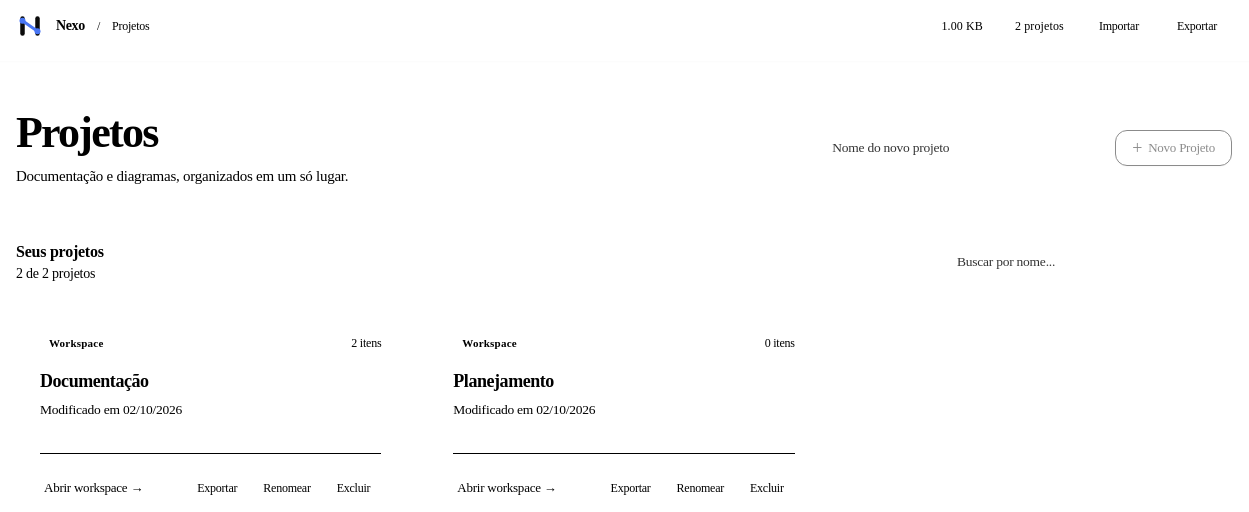
Scenario: fluxo de projetos › filtra por nome e permite limpar uma busca sem resultados
Type "DOCUMENTAÇÃO" into the search field named "Buscar projetos" at (1088, 262), box [944,243,1232,281]
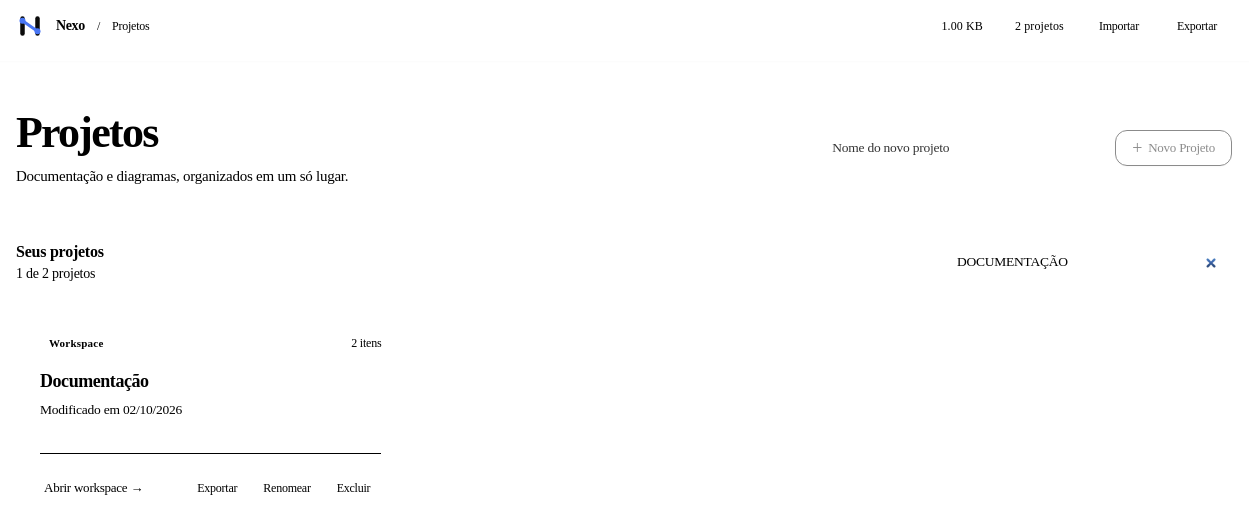
Expected: the heading "Documentação" is shown, [40,370,149,394]
Now the button "Planejamento" is gone
Replace the text in the search field named "Buscar projetos" with "inexistente" at (1088, 262), box [944,243,1232,281]
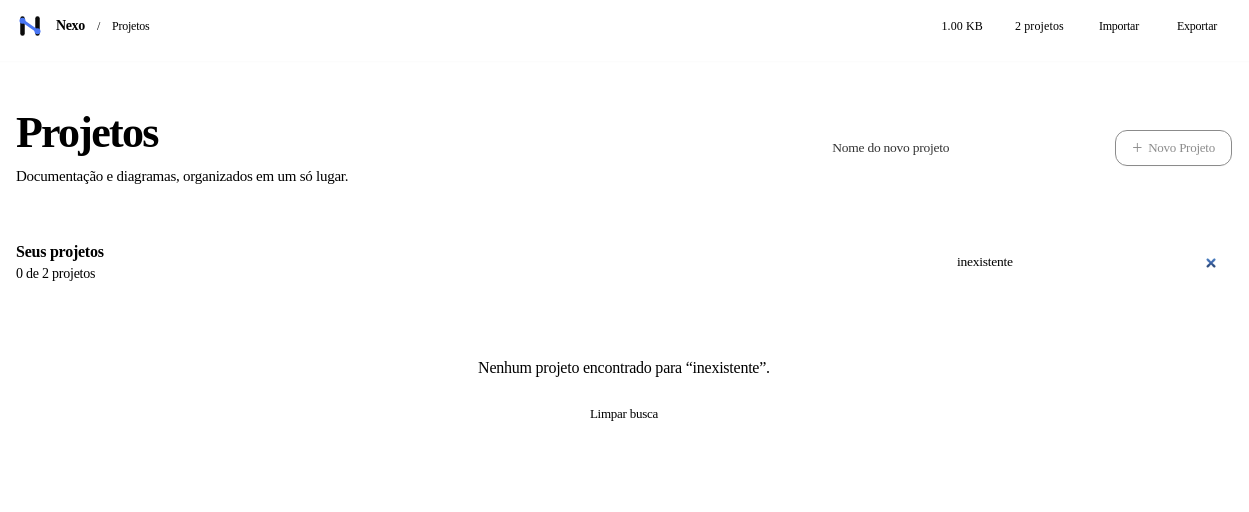
Now the text "Nenhum projeto encontrado para “inexistente”." is shown, box [478,359,770,376]
Click the button "Limpar busca" at (624, 414), box [577,396,671,432]
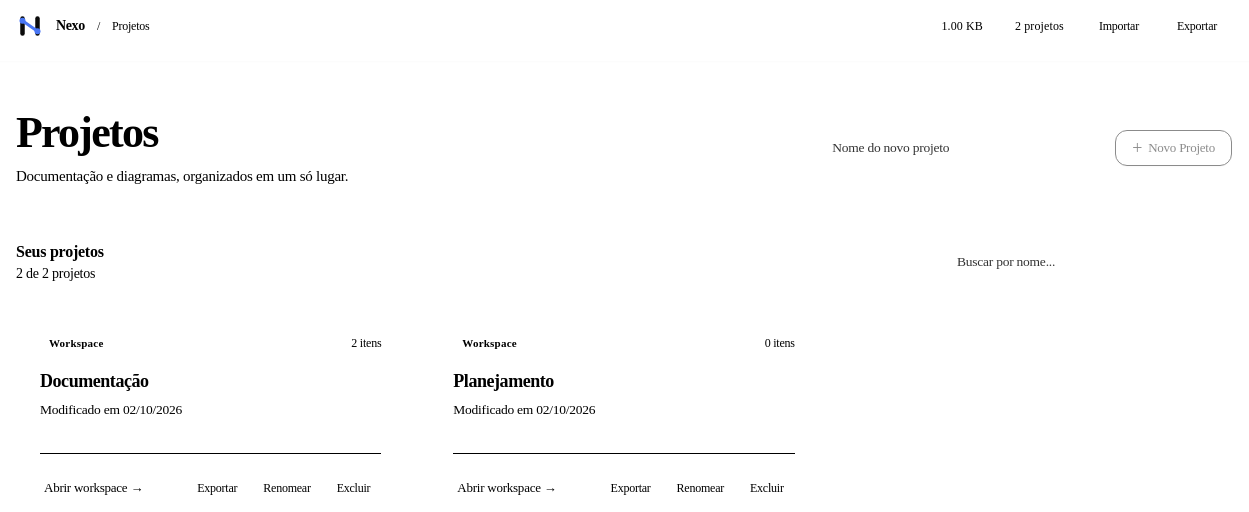
Now the heading "Planejamento" is shown, box [453,370,554,394]
